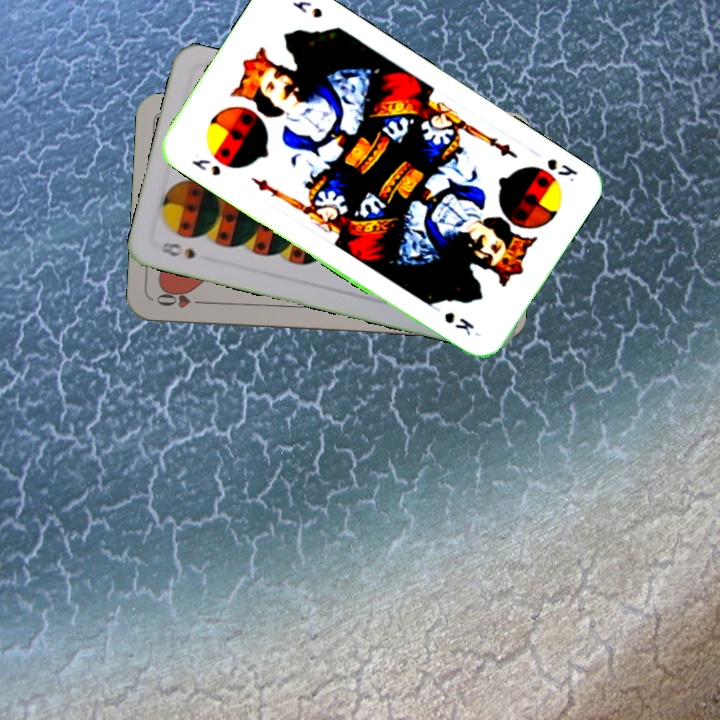HO: (152, 287, 210, 311)
S8: (156, 238, 198, 262)
SK: (542, 154, 581, 185), (187, 155, 224, 179)
